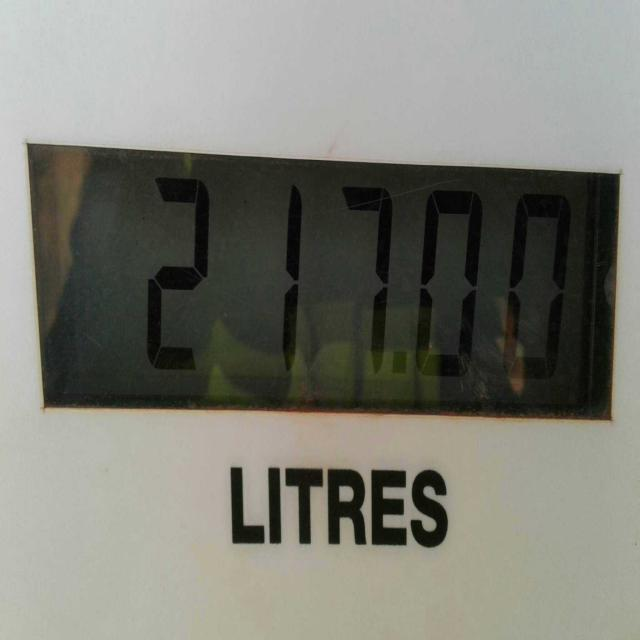.: (392, 352, 405, 376)
0: (501, 192, 566, 385), (415, 187, 478, 386)
1: (281, 188, 301, 375)
2: (146, 182, 210, 372)
7: (344, 181, 392, 381)
